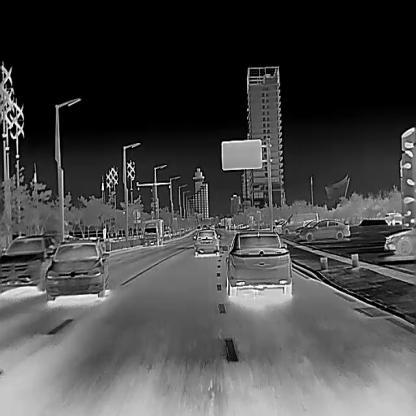car: (224, 230, 291, 296), (45, 241, 109, 299), (0, 233, 56, 293), (299, 219, 350, 241), (385, 228, 416, 255), (193, 229, 221, 256), (281, 212, 318, 232), (143, 218, 164, 245), (294, 219, 321, 233), (385, 212, 402, 224)
